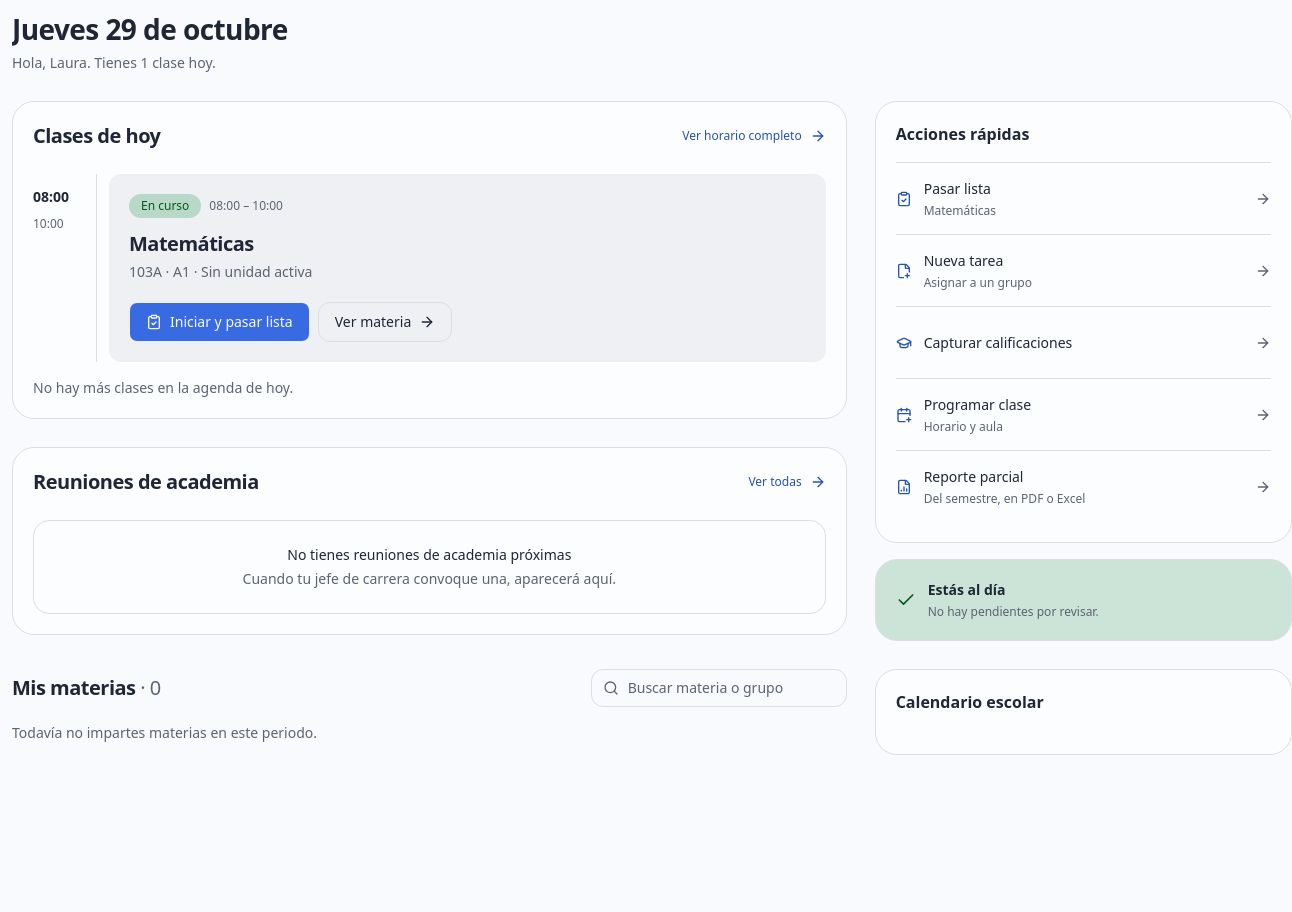
Test case: iniciar desde la agenda conserva la petición y muestra el error de captura
Click the button "Iniciar y pasar lista".
click(219, 322)  # box x1=129 y1=302 x2=310 y2=342
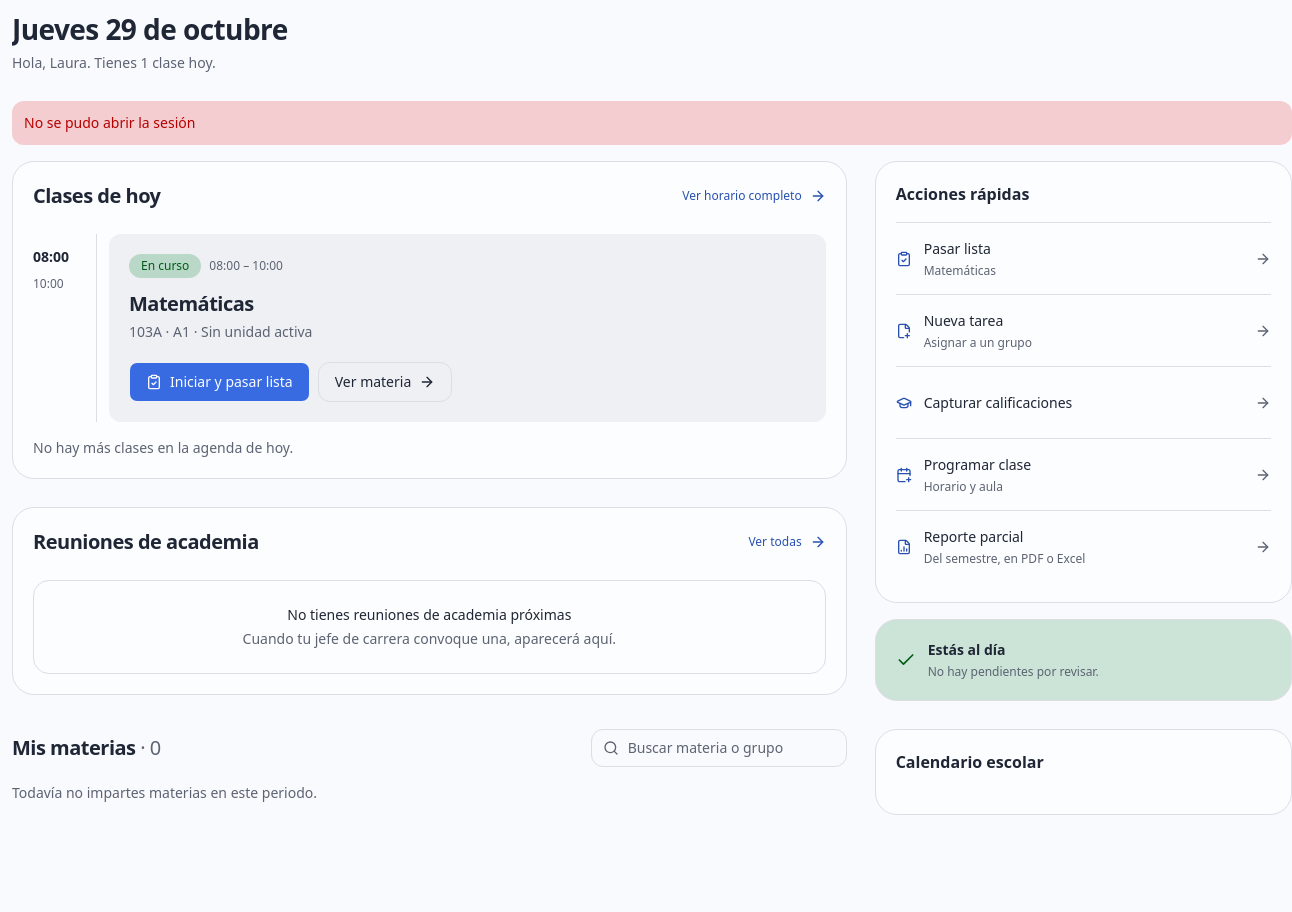
Result: the message reads "No se pudo abrir la sesión" at x1=24 y1=113 x2=195 y2=132
